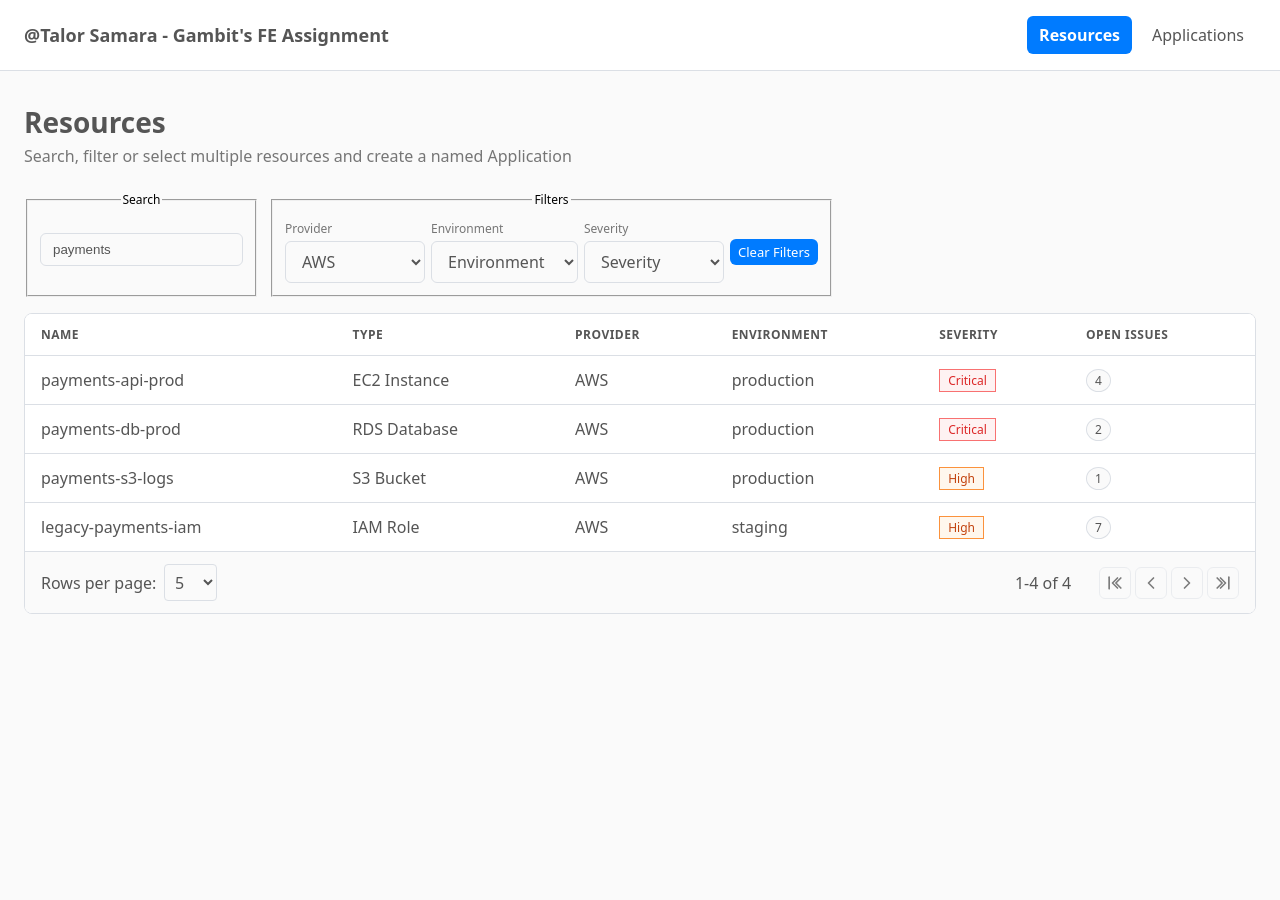
ResourcesPage › should clear active filters while preserving the search query
What coordinates should you click on to do the following:
click the button "Clear Filters"
I would click on:
 (774, 252)
Its box is [730,238,818,264].
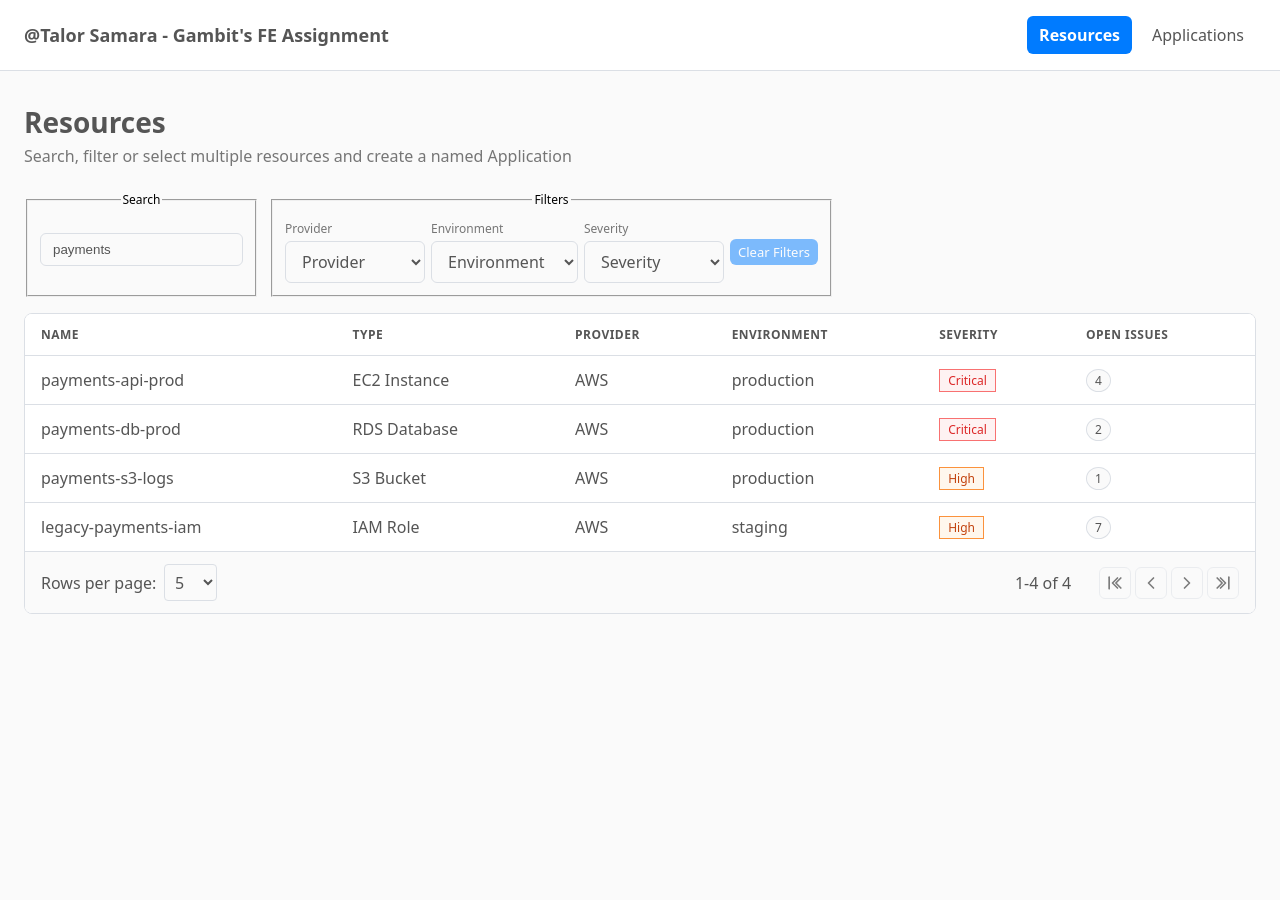
Expected: the cell "payments-api-prod" is shown, [25,356,336,404]
Expected: the dropdown labelled "Provider" shows "Provider", [285,241,425,283]
